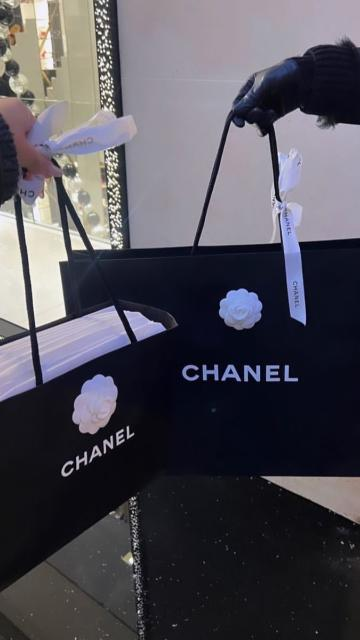Chanel: (54, 415, 141, 486), (173, 359, 302, 388)
